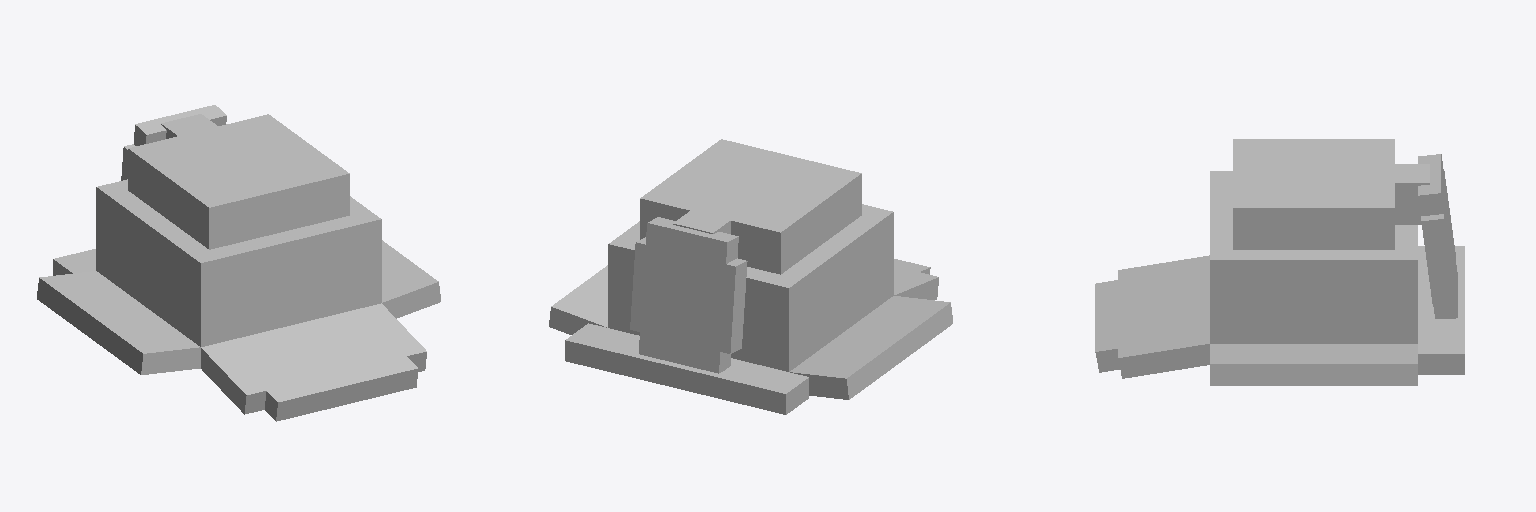
The model's file is fireman_hat.obj.
3 renders of one model, left to right at view 1: azimuth 30°, elevation 25°; view 2: azimuth 150°, elevation 25°; view 3: azimuth 270°, elevation 25°, orthographic.
Parts seen in each view (by area): view 1: Shape1, Shape2, Shape10, Shape5, Shape11, Shape3, Shape8, Shape9, Shape4; view 2: Shape1, Shape2, Shape6, Shape4, Shape5, Shape8, Shape3, Shape7, Shape10, Shape9; view 3: Shape1, Shape2, Shape10, Shape3, Shape4, Shape6, Shape11, Shape9, Shape8.
Boxes of the visible parts, box(x1,y1,x2,y2) form: Shape1: box(96, 179, 381, 346); Shape2: box(128, 114, 349, 249); Shape10: box(201, 303, 426, 414); Shape5: box(37, 271, 200, 374); Shape11: box(265, 356, 418, 421); Shape3: box(382, 240, 440, 318); Shape8: box(134, 105, 226, 145); Shape9: box(161, 114, 223, 139); Shape4: box(53, 249, 95, 275); Shape1: box(608, 204, 893, 371); Shape2: box(640, 139, 861, 274); Shape6: box(630, 237, 747, 353); Shape4: box(565, 323, 808, 414); Shape5: box(790, 296, 952, 399); Shape8: box(646, 217, 738, 263); Shape3: box(549, 265, 607, 334); Shape7: box(639, 332, 730, 373); Shape10: box(894, 266, 938, 299); Shape9: box(673, 207, 731, 233); Shape1: box(1210, 171, 1417, 343); Shape2: box(1233, 139, 1394, 249); Shape10: box(1118, 255, 1209, 378); Shape3: box(1210, 344, 1417, 385); Shape4: box(1418, 246, 1464, 374); Shape6: box(1421, 171, 1455, 304); Shape11: box(1095, 280, 1119, 372); Shape9: box(1384, 164, 1429, 224); Shape8: box(1418, 154, 1443, 215).
Bounding box in the file's own units: 0.9347 × 0.4908 × 0.9953.